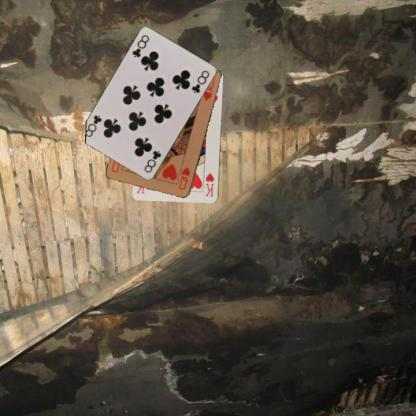8c: (129, 32, 151, 61), (141, 148, 162, 174)
Kh: (202, 170, 216, 198)
Qh: (176, 164, 191, 191)
